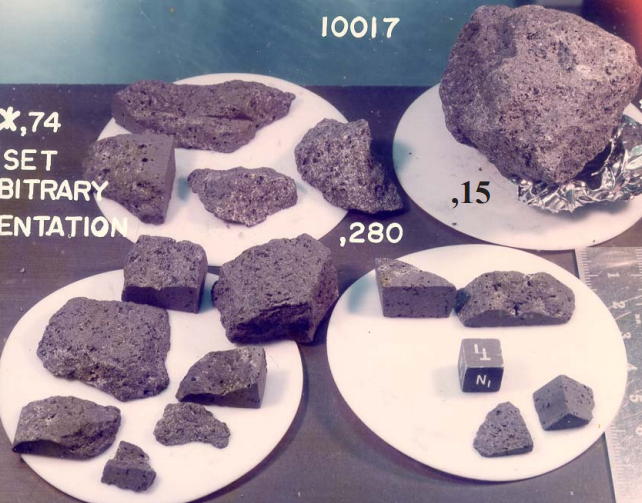Basalt: (27, 282, 282, 492), (349, 254, 606, 453), (124, 242, 332, 406), (455, 5, 633, 194), (131, 83, 387, 213)
